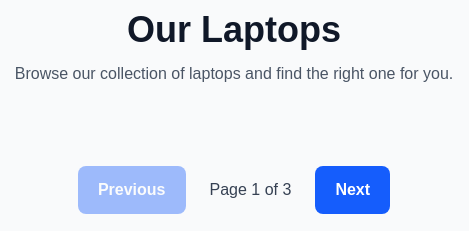
allows users to move between product pages
Check: the text "Page 1 of 3" is shown, box [210,178,291,202]
Click the button "Next" at coordinates (353, 190), box [315,166,390,214]
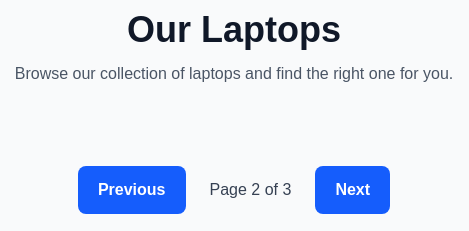
Check: the text "Page 2 of 3" is shown, box [210,178,291,202]
Click the button "Previous" at coordinates (132, 190), box [78,166,186,214]
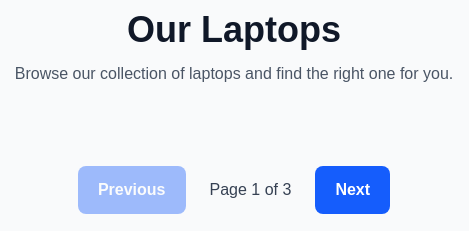
Check: the text "Page 1 of 3" is shown, box [210,178,291,202]
